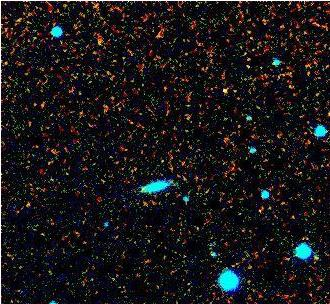star: (210, 76, 240, 106)
